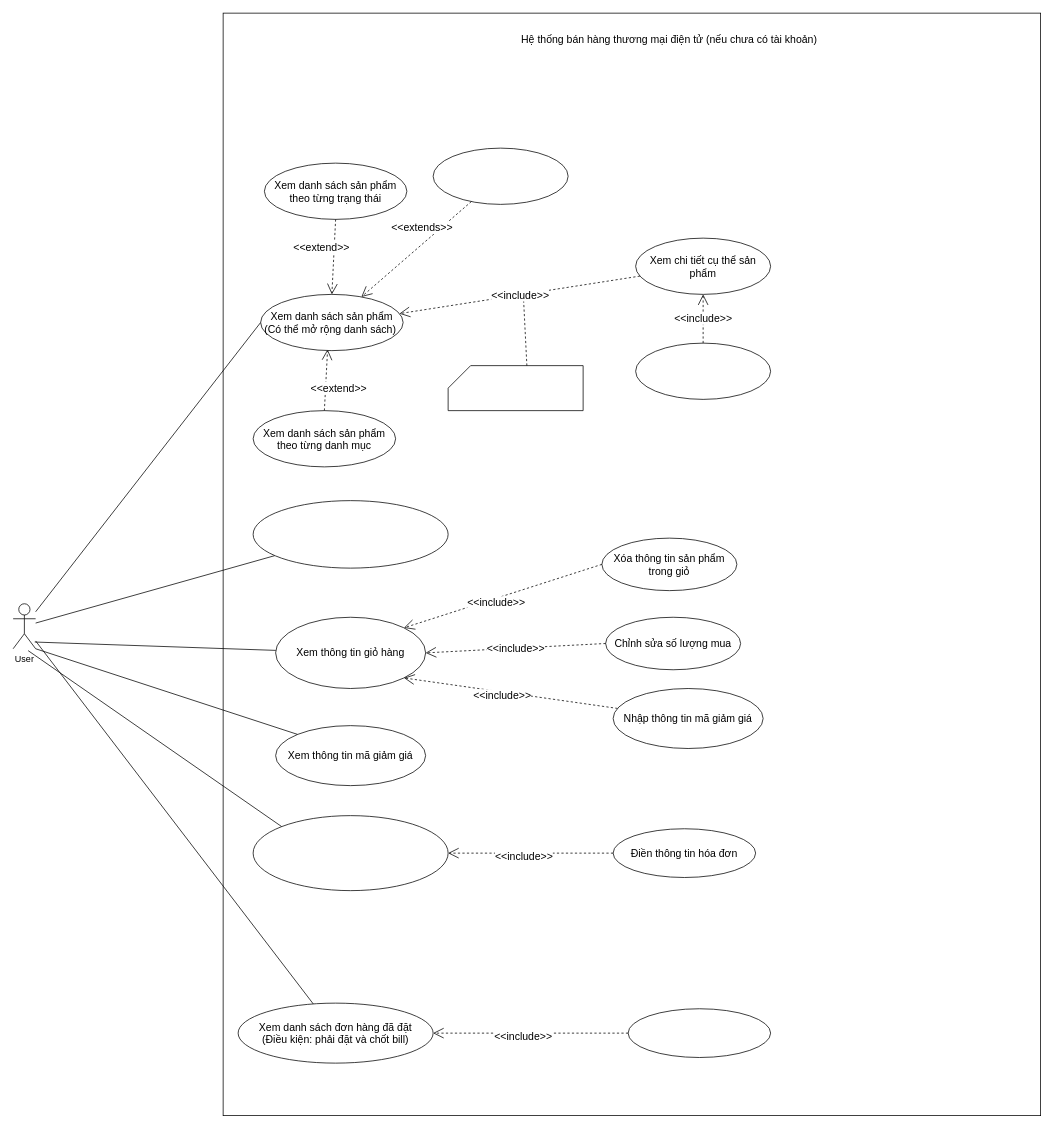
The diagram is 1054 pixels wide and 1129 high, and some of its shapes have lost their labels. The shapes that lost their labels are listed below. From the top down, each one's box as (x1, y1, x2, y2) in pixels, then its label:
(432, 147, 568, 204): Xem danh sách sản phẩm đã giảm giá
(447, 365, 583, 411): Condition: click vào sản phẩm đó
(635, 342, 771, 399): Xem danh sách sản phẩm liên quan
(252, 500, 448, 568): Thêm sản phẩm vào giỏ hàng.
(252, 815, 448, 891): Xem chi tiết hóa đơn hàng (Điều kiện: phải có hàng trong giỏ.)
(627, 1008, 771, 1058): Hủy đơn hàng (Có thời gian cụ thể)
